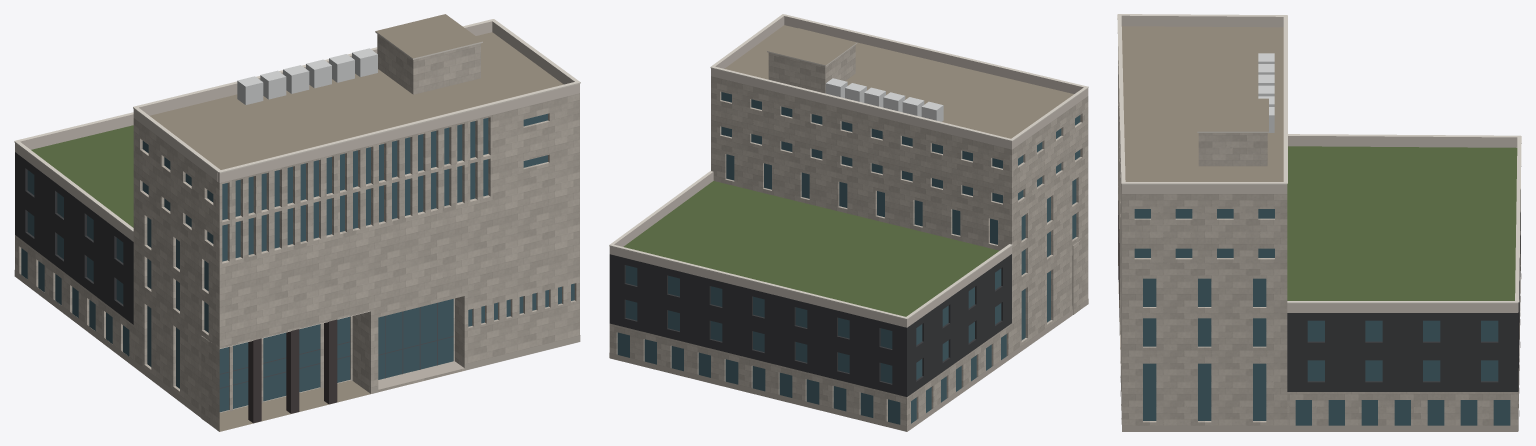
The picture shows the model from 3 angles, left to right: view 1: azimuth 30°, elevation 25°; view 2: azimuth 150°, elevation 25°; view 3: azimuth 270°, elevation 25°; orthographic projection. The views are drawn at different scales.
Visible parts, largest first — view 1: history__wall, history__glass, history__roof, history__parapet, history__wall2, history__roofGarden, history__trim, history__roofMetal, history__column, history__base, history__frame; view 2: history__wall, history__roofGarden, history__wall2, history__glass, history__roof, history__parapet, history__trim, history__base, history__roofMetal; view 3: history__wall, history__roofGarden, history__roof, history__wall2, history__glass, history__parapet, history__trim, history__base, history__roofMetal.
Part boxes in pixels (x1,y1,x2,y2): history__wall: [15, 34, 579, 431]; history__glass: [21, 113, 574, 412]; history__roof: [149, 14, 563, 431]; history__parapet: [15, 21, 579, 241]; history__wall2: [15, 152, 133, 324]; history__roofGarden: [31, 125, 133, 227]; history__trim: [14, 19, 580, 231]; history__roofMetal: [237, 48, 377, 104]; history__column: [248, 319, 337, 423]; history__base: [14, 270, 580, 431]; history__frame: [219, 302, 453, 388]; history__wall: [609, 45, 1088, 431]; history__roofGarden: [623, 181, 999, 316]; history__wall2: [609, 254, 1011, 396]; history__glass: [617, 92, 1080, 424]; history__roof: [724, 25, 1073, 138]; history__parapet: [609, 16, 1088, 327]; history__trim: [609, 14, 1088, 319]; history__base: [609, 299, 1088, 431]; history__roofMetal: [825, 78, 943, 121]; history__wall: [1118, 48, 1520, 430]; history__roofGarden: [1287, 146, 1517, 300]; history__roof: [1118, 26, 1283, 321]; history__wall2: [1287, 190, 1520, 391]; history__glass: [1134, 209, 1510, 425]; history__parapet: [1121, 15, 1518, 312]; history__trim: [1117, 14, 1521, 303]; history__base: [1120, 273, 1521, 431]; history__roofMetal: [1258, 53, 1274, 132].
Bounding box in the file's own units: 34.91 × 26.22 × 35.12.
Materials: 12 (1 with a texture image).
